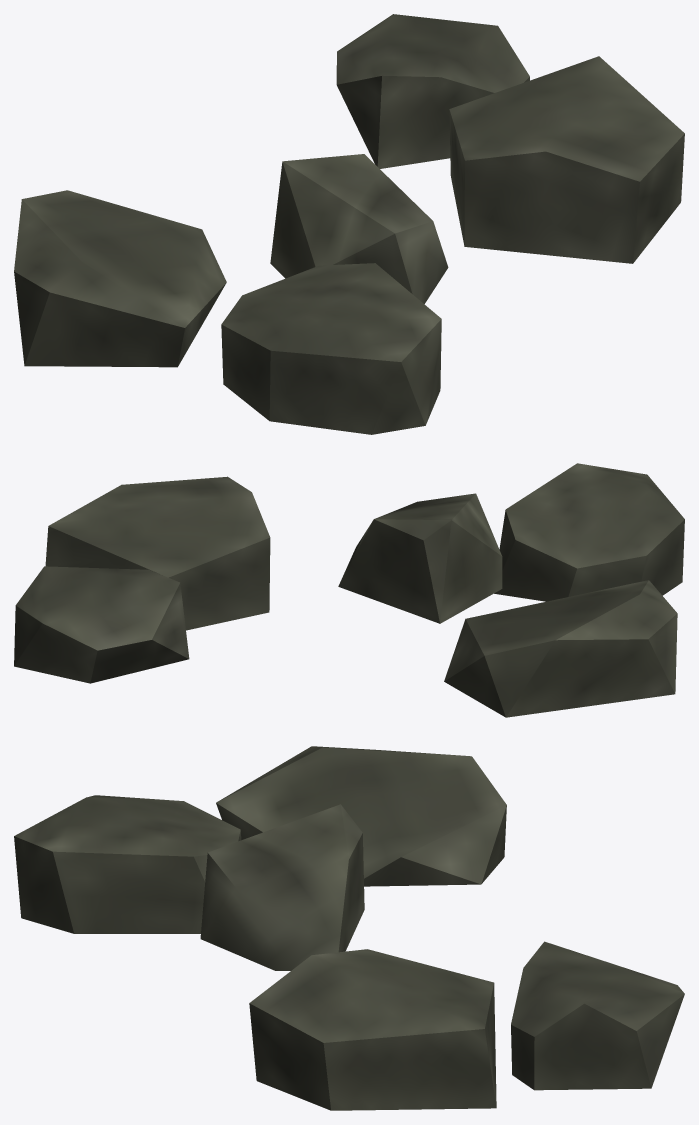
File: Rock_17A.fbx
The picture shows the model from 3 angles, top to bottom: view 1: azimuth 30°, elevation 25°; view 2: azimuth 150°, elevation 25°; view 3: azimuth 270°, elevation 25°; orthographic projection. The views are drawn at different scales.
Visible parts, largest first — view 1: Rock_17A; view 2: Rock_17A; view 3: Rock_17A.
Boxes of the visible parts, x1,y1,x2,y2 form: Rock_17A: (14, 14, 684, 434); Rock_17A: (14, 463, 684, 717); Rock_17A: (14, 746, 684, 1110).
Size of the model in its own units: 164 by 34.67 by 155.
Materials: 1 (1 with a texture image).
